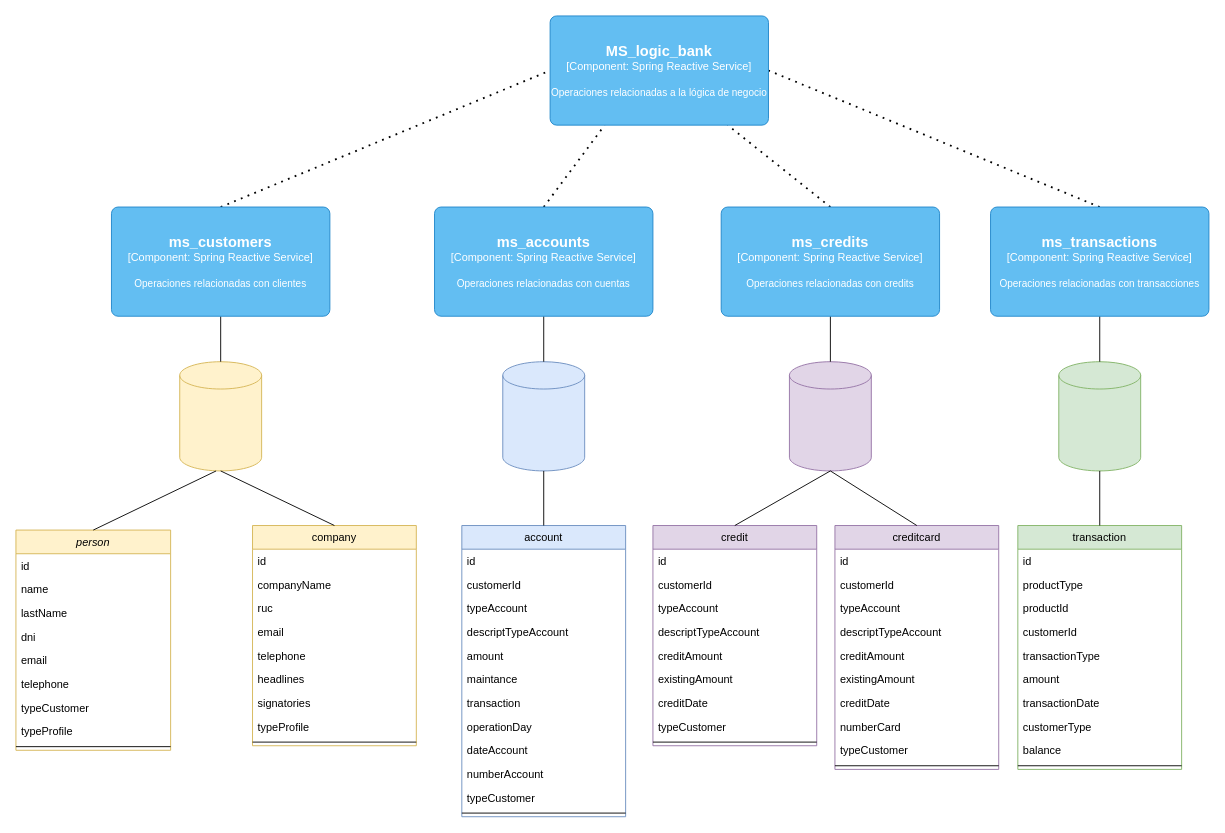
This 1225x833 diagram has some shape labels left out. The centre of each missing label's shape, as x and y in pixels:
DB accounts: [543,416]
DB credits: [830,416]
DB customers: [220,416]
DB transactions: [1099,416]
